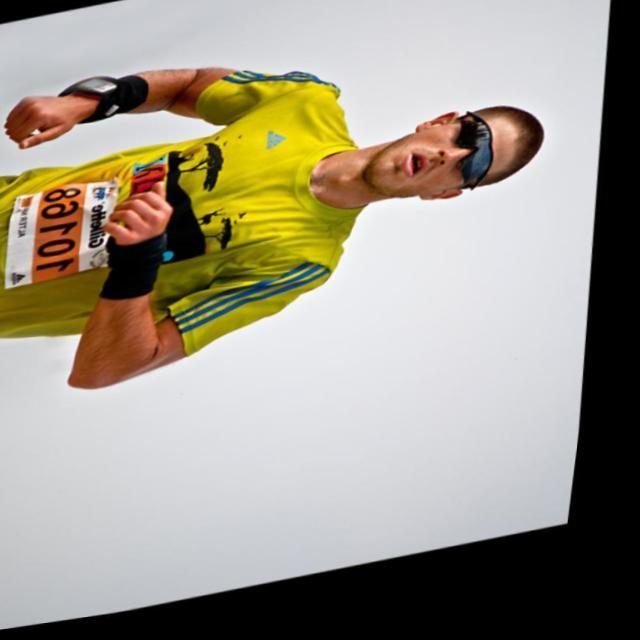dorsal: (0, 165, 138, 296)
